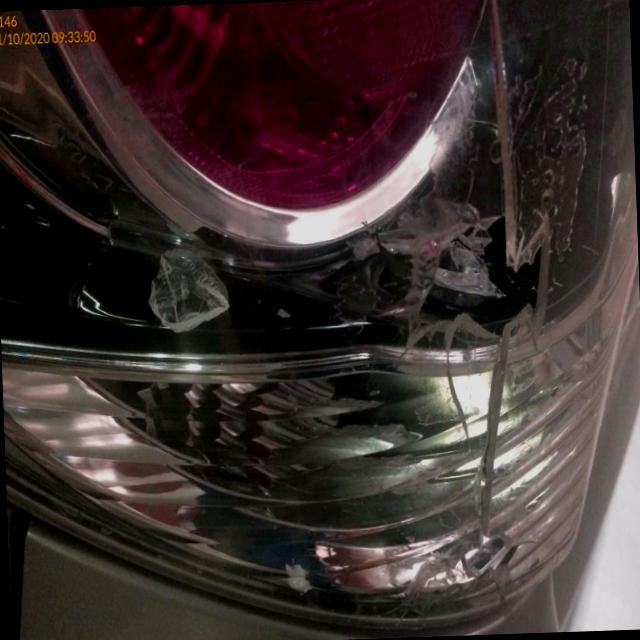Phare abime: (378, 29, 583, 566), (142, 223, 231, 331)
